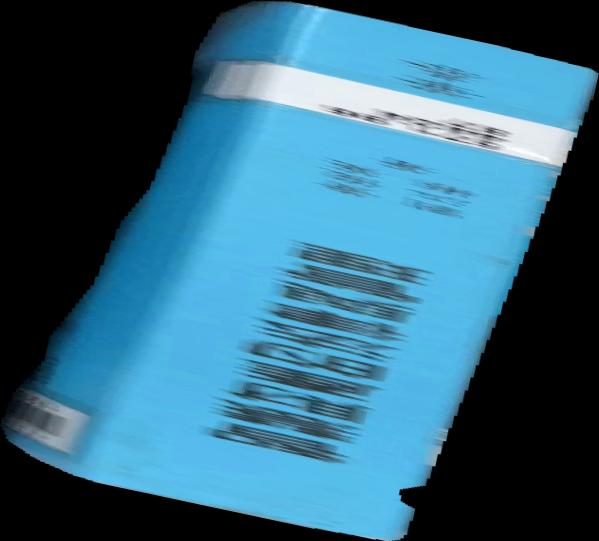reverse: (1, 1, 599, 541)
